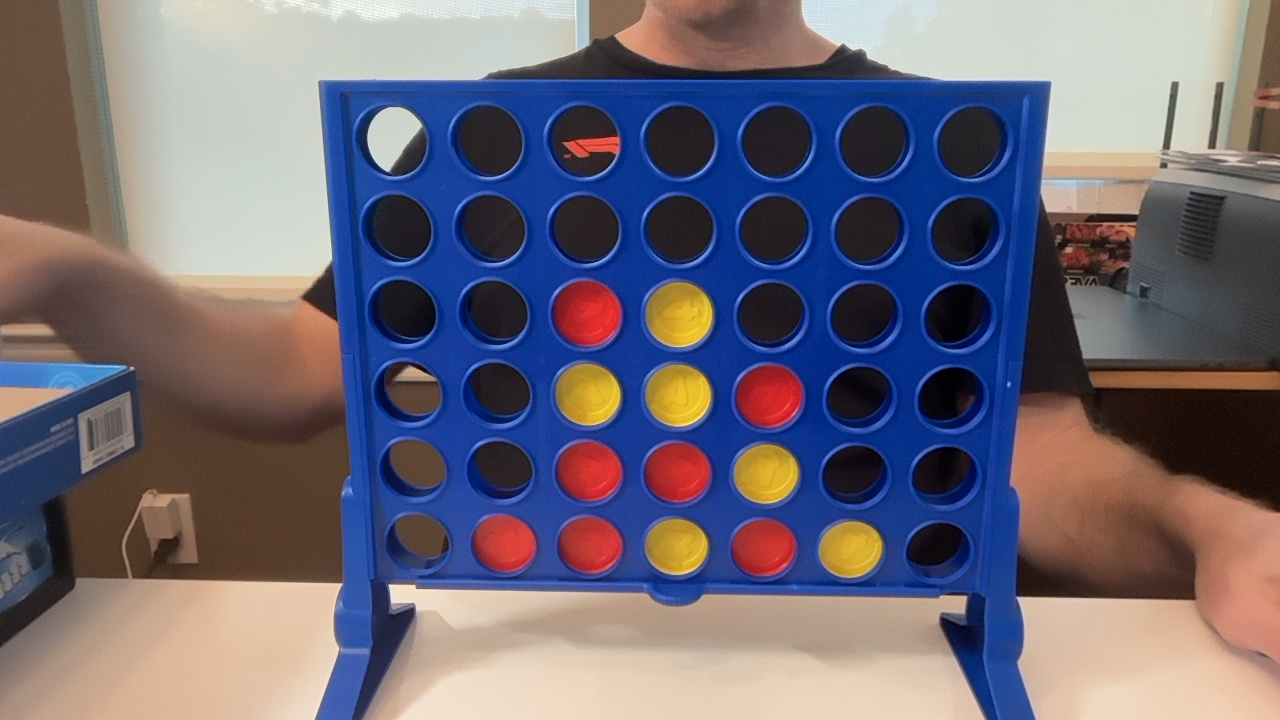red piece: (552, 280, 621, 346), (735, 364, 803, 428), (644, 442, 710, 503), (556, 440, 622, 501), (557, 516, 622, 575), (731, 519, 796, 577), (472, 515, 536, 573)
yellow piece: (645, 281, 713, 347), (645, 363, 711, 427), (555, 362, 621, 426), (733, 443, 799, 504), (819, 521, 883, 579), (645, 518, 708, 576)
